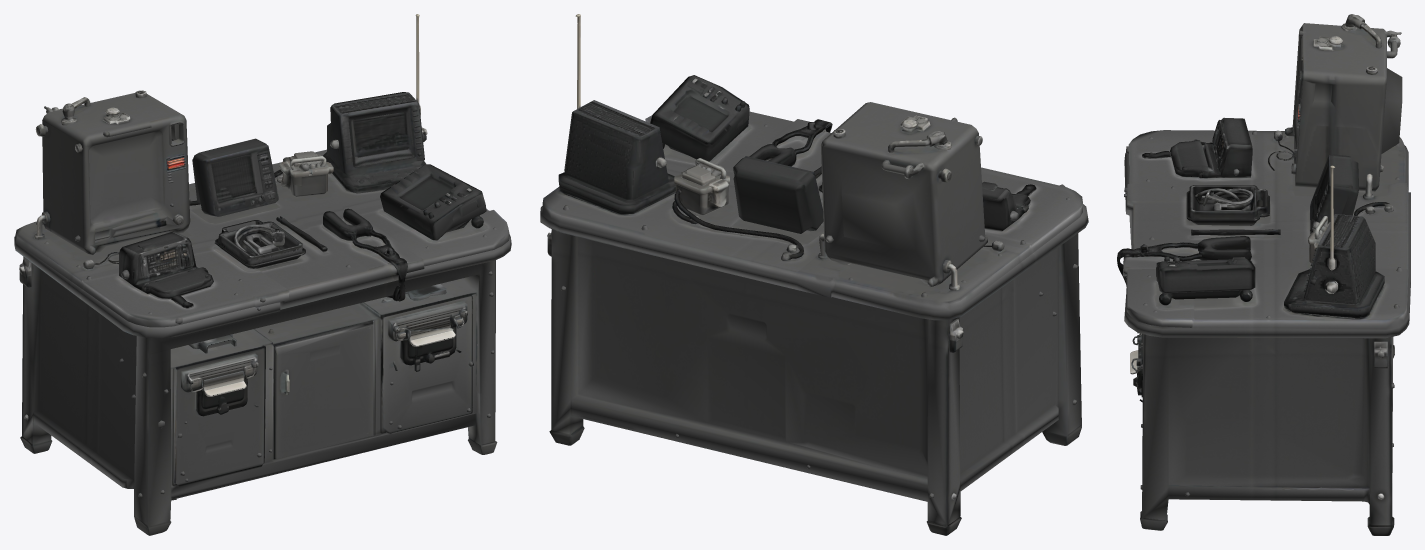
Rendered from Worktable+with+Equpiment.glb.
3 renders of one model, left to right at view 1: azimuth 30°, elevation 25°; view 2: azimuth 150°, elevation 25°; view 3: azimuth 270°, elevation 25°, orthographic. The views are drawn at different scales.
Visible parts, largest first — view 1: tripo_node_5f02d1d5-7f51-449a-84f8-fa618cef2ff2; view 2: tripo_node_5f02d1d5-7f51-449a-84f8-fa618cef2ff2; view 3: tripo_node_5f02d1d5-7f51-449a-84f8-fa618cef2ff2.
Boxes of the visible parts, bbox=[...] form: tripo_node_5f02d1d5-7f51-449a-84f8-fa618cef2ff2: bbox=[14, 14, 511, 535]; tripo_node_5f02d1d5-7f51-449a-84f8-fa618cef2ff2: bbox=[540, 14, 1088, 535]; tripo_node_5f02d1d5-7f51-449a-84f8-fa618cef2ff2: bbox=[1117, 14, 1410, 535].
Bounding box in the file's own units: 0.9995 × 0.9116 × 0.6489.
Materials: 1 (1 with a texture image).
